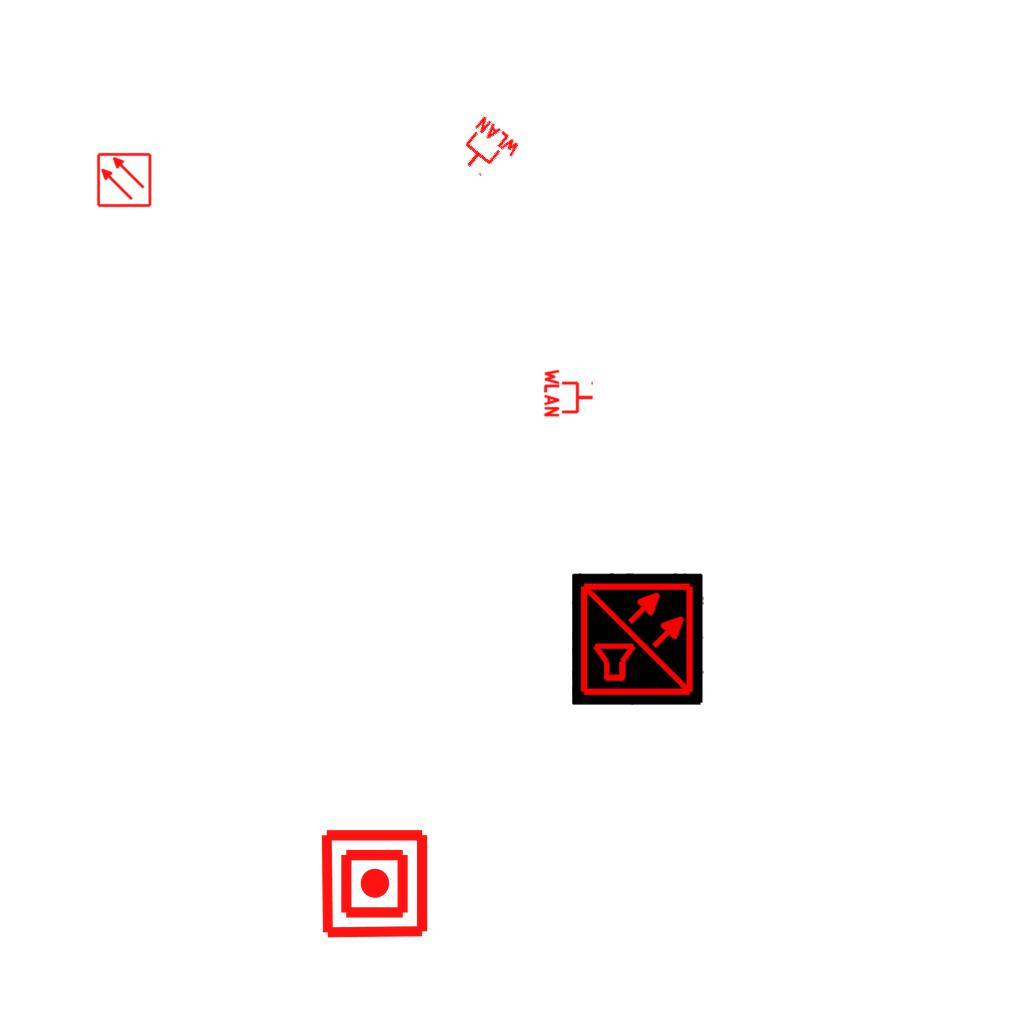NAM-Nichtautomatischer_Melder: (318, 827, 431, 940)
OKW_Multisensormelder_(Kombination_optischer_Rauch-Kahlenmonoxid_Waerme-Melder): (572, 573, 704, 705)
RMO_Rauchmelder_optischer: (96, 152, 152, 208)
WLAN: (450, 113, 524, 187), (543, 367, 595, 419)
